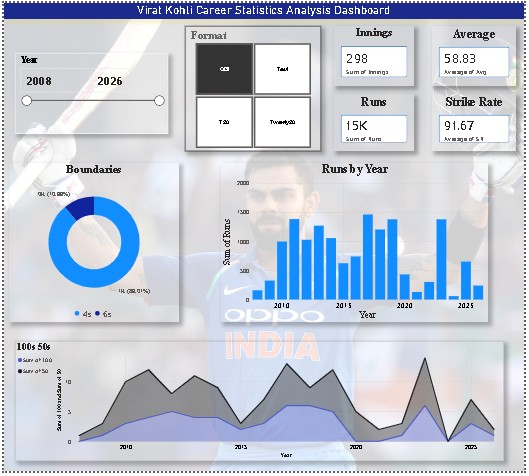

This screenshot's page, from the dashboard's own definition file:
{"tool":"powerbi","page":{"name":"Page 1","canvas":[1300,1169],"ordinal":0},"visuals":[{"type":"textbox","title":"Virat Kohli Career Statistics Analysis Dashboard ","box":[0,0,1300,40],"z":0},{"type":"cardVisual","title":"Innings","fields":{"Data":["Sum(Table1 (2).Innings)"]},"box":[825,56.7,200,150],"z":1000},{"type":"cardVisual","title":"Runs","fields":{"Data":["Sum(Table1 (2).Runs)"]},"box":[825,226.7,200,143.3],"z":2000},{"type":"cardVisual","title":"Average","fields":{"Data":["Avg(Table1 (2).Avg)"]},"box":[1070,56.7,210,150],"z":3000},{"type":"cardVisual","title":"Strike Rate","fields":{"Data":["Avg(Table1 (2).SR)"]},"box":[1070,226.7,210,143.3],"z":4000},{"type":"slicer","fields":{"Values":["Table1 (2).Year"]},"box":[26.7,125,383.3,201.7],"z":5000},{"type":"slicer","fields":{"Values":["Table1 (2).Formart"]},"box":[453.3,56.7,340,313.3],"z":6000},{"type":"clusteredColumnChart","title":"Runs by Year","fields":{"Category":["Table1 (2).Year"],"Y":["Sum(Table1 (2).Runs)"]},"box":[543.3,400,668.3,398.3],"z":7000},{"type":"donutChart","title":"Boundaries","fields":{"Y":["Sum(Table1 (2).4s)","Sum(Table1 (2).6s)"]},"box":[11.7,400,425,398.3],"z":8000},{"type":"stackedAreaChart","title":"100s 50s","fields":{"Y":["Sum(Table1 (2).100)","Sum(Table1 (2).50)"],"Category":["Table1 (2).Year"]},"box":[26.7,845,1221.7,300],"z":9000}]}

Visuals, with their boxes in screenshot pixels (x1, y1, x2, y2), scaled from the page's 1300x1169 canvas onto the 529x476 screenshot:
"Virat Kohli Career Statistics Analysis Dashboard " textbox: detection(0, 0, 528, 16)
"Innings" cardVisual: detection(336, 23, 417, 84)
"Runs" cardVisual: detection(336, 92, 417, 151)
"Average" cardVisual: detection(435, 23, 521, 84)
"Strike Rate" cardVisual: detection(435, 92, 521, 151)
slicer - Table1 (2).Year: detection(11, 51, 167, 133)
slicer - Table1 (2).Formart: detection(184, 23, 323, 151)
"Runs by Year" clusteredColumnChart: detection(221, 163, 493, 325)
"Boundaries" donutChart: detection(5, 163, 178, 325)
"100s 50s" stackedAreaChart: detection(11, 344, 508, 466)
